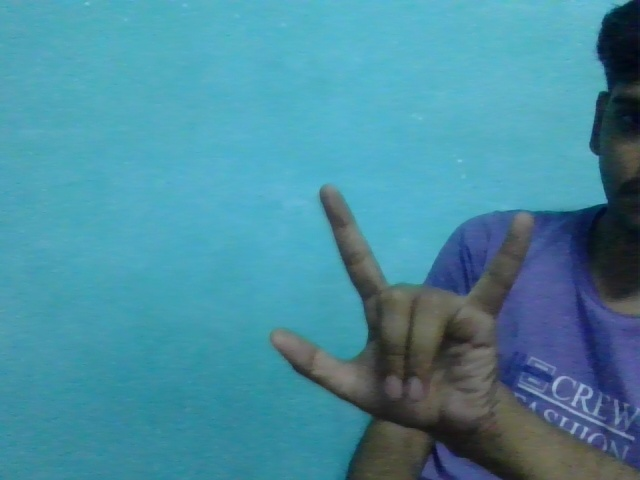iloveyou: (269, 181, 539, 434)
